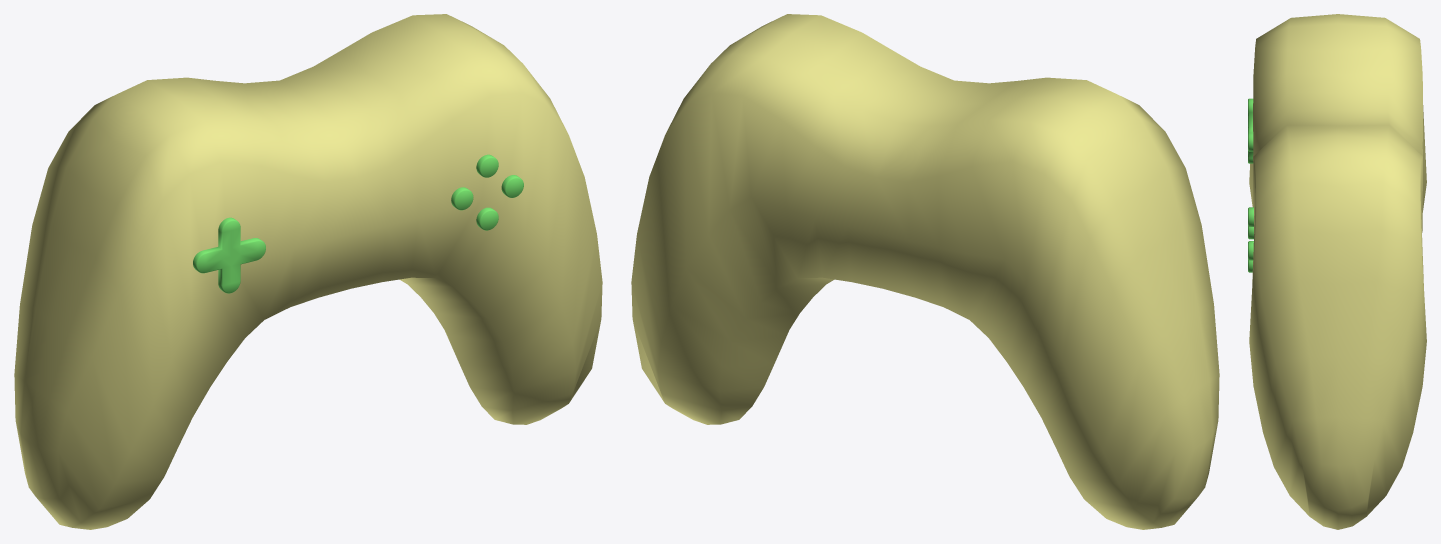
Rendered from OpsiveController.fbx.
The picture shows the model from 3 angles, left to right: view 1: azimuth 30°, elevation 25°; view 2: azimuth 150°, elevation 25°; view 3: azimuth 270°, elevation 25°; orthographic projection. The views are drawn at different scales.
Parts seen in each view (by area): view 1: Controller; view 2: Controller; view 3: Controller.
Part boxes in pixels (x1=…): Controller: x1=14, y1=14, x2=602, y2=529; Controller: x1=631, y1=14, x2=1219, y2=529; Controller: x1=1248, y1=14, x2=1426, y2=529.
Size of the model in its own units: 1.82 by 1.26 by 0.5822.
